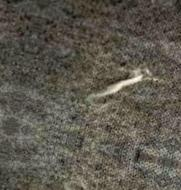snag: (85, 69, 147, 101)
